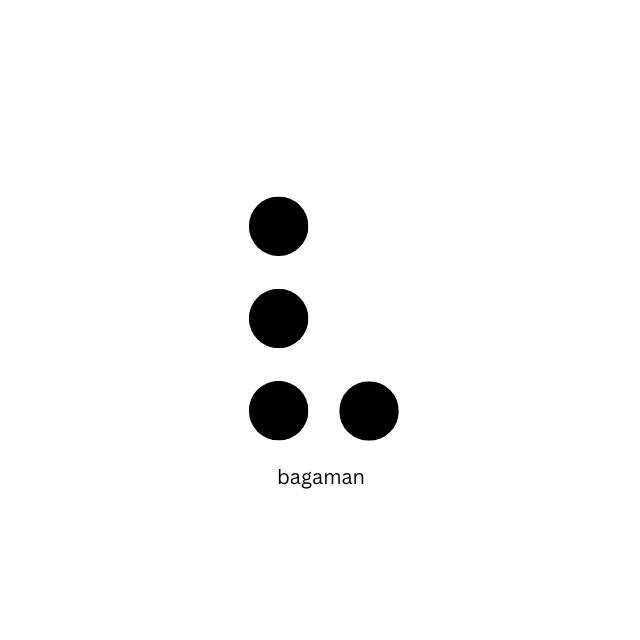one_cell_alphabet_bagaman: (247, 193, 401, 443)
